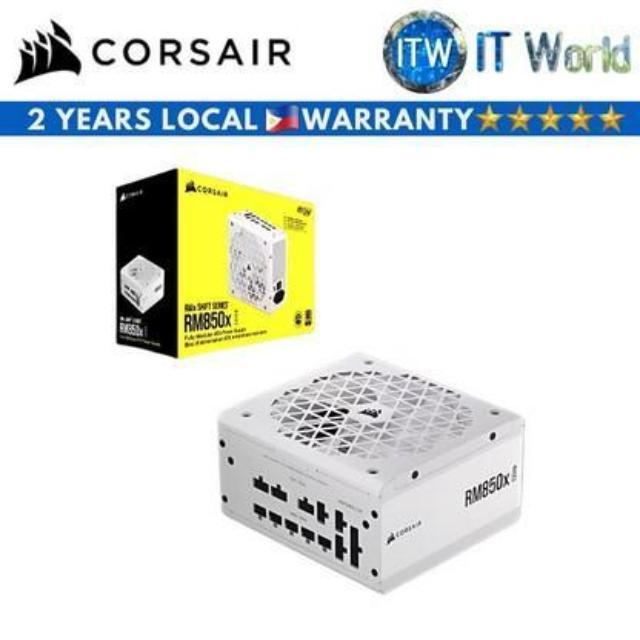PSU: (209, 349, 531, 591)
